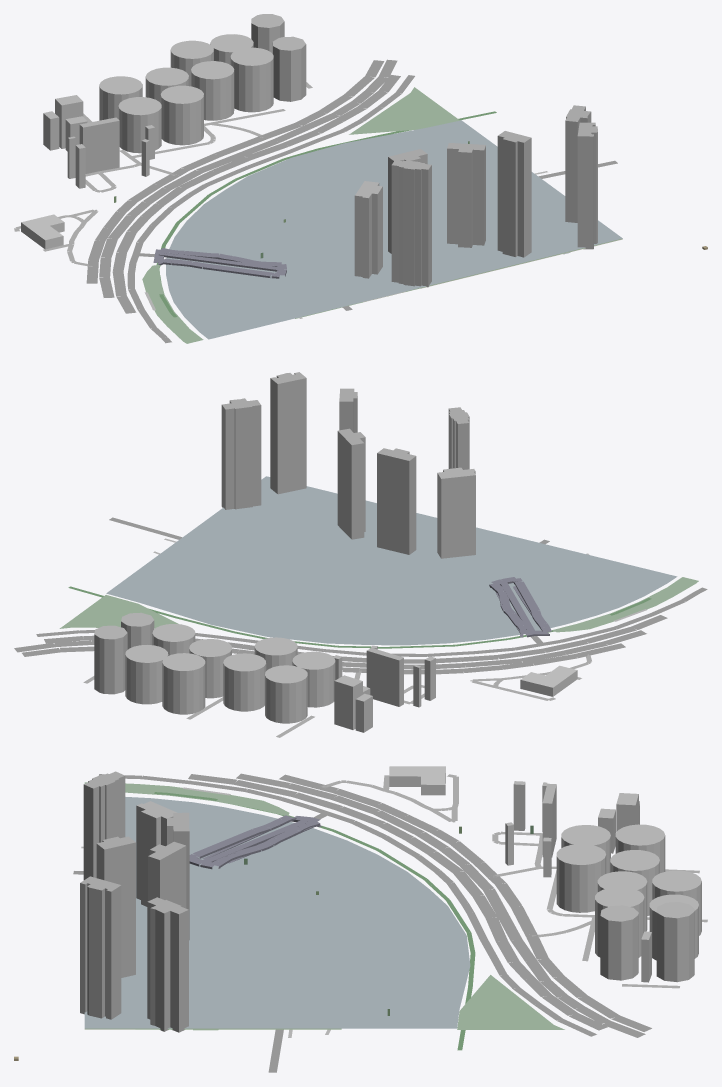
3 renders of one model, top to bottom at view 1: azimuth 30°, elevation 25°; view 2: azimuth 150°, elevation 25°; view 3: azimuth 270°, elevation 25°, orthographic. The views are drawn at different scales.
Bounding box in the file's own units: 588 × 126 × 582.
